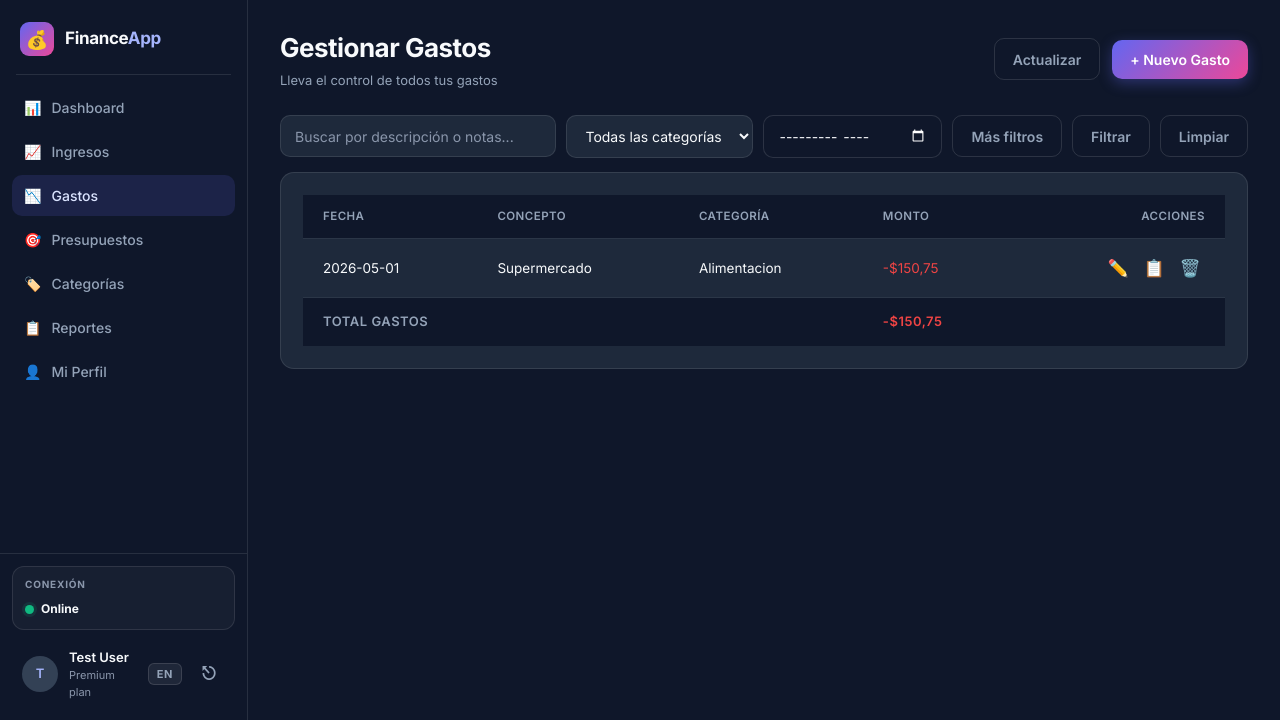
it: CRUD de Gastos (E2E) › Debe traducir el botón Actualizar al cambiar la interfaz a inglés
What coordinates should you click on to do the following:
click the button with class "btn-lang-toggle"
I would click on:
 (165, 674)
Its box is x1=148 y1=663 x2=182 y2=685.
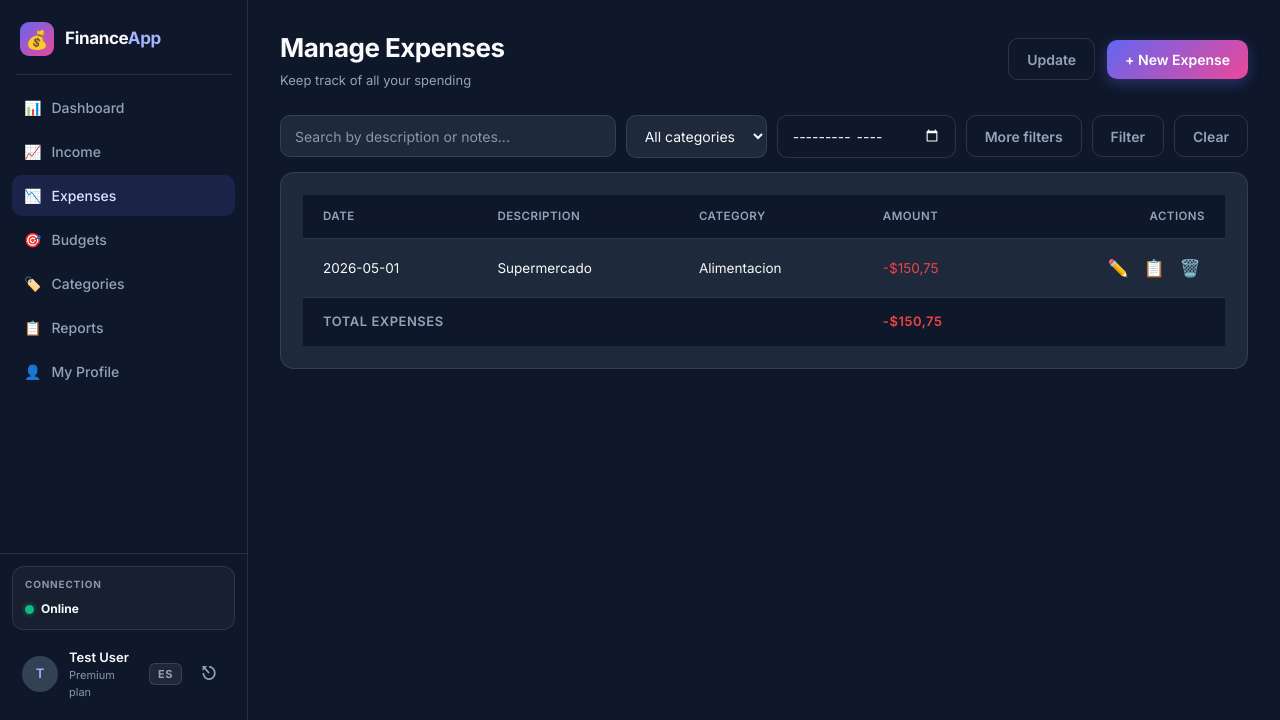
Expected: the button with test id "refresh-button" reads "Update", x1=1008 y1=38 x2=1095 y2=80
